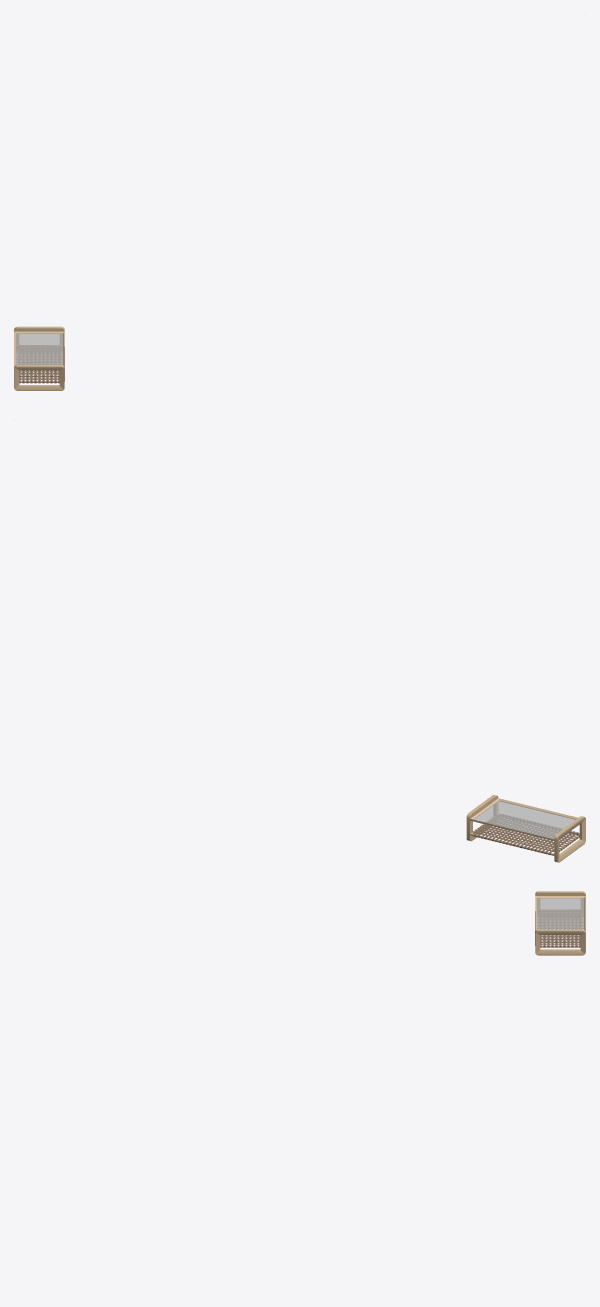
The model's file is mesa-de-centro-chenin.glb.
The picture shows the model from 3 angles, top to bottom: view 1: azimuth 90°, elevation 25°; view 2: azimuth 150°, elevation 25°; view 3: azimuth 270°, elevation 25°; orthographic projection. The views are drawn at different scales.
Bounding box in the file's own units: 12.31 × 0.3766 × 7.9.
